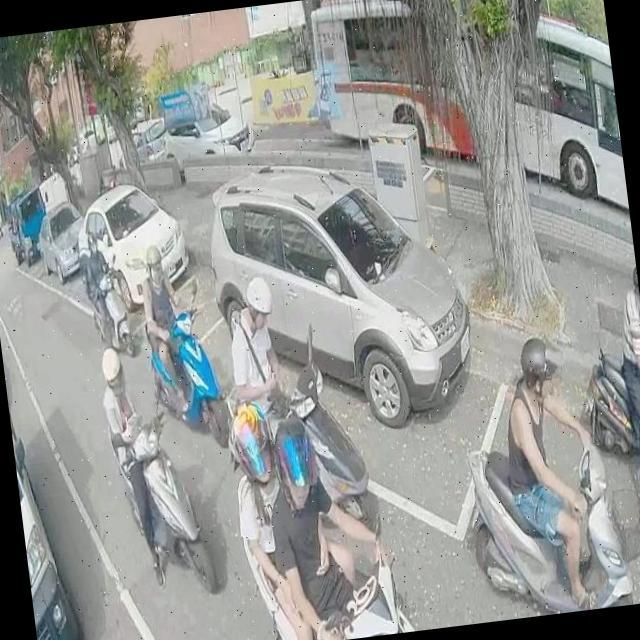person: (221, 384, 366, 640), (492, 320, 616, 617), (259, 408, 407, 640), (98, 334, 175, 592), (138, 233, 206, 416), (223, 267, 293, 432), (607, 271, 640, 508), (78, 231, 120, 343), (586, 584, 640, 609)
